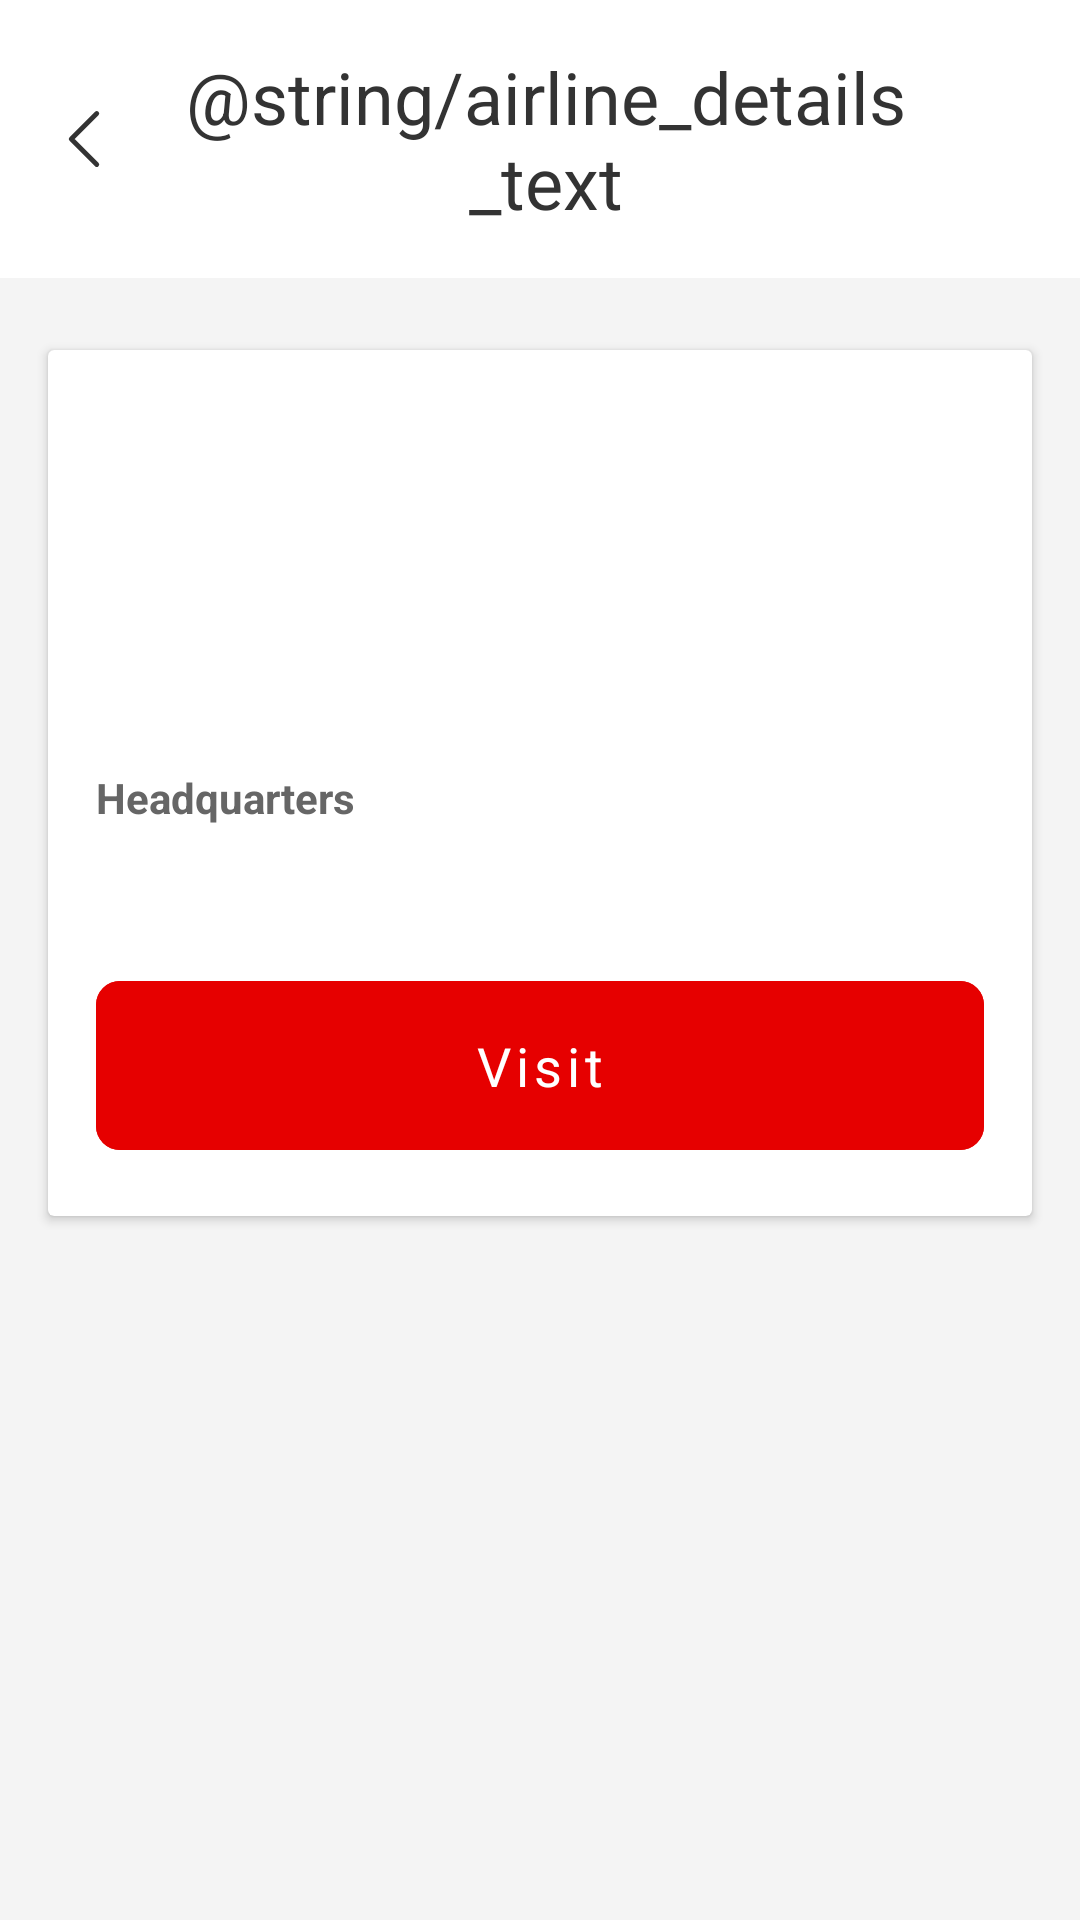

Screen size 1080×1920. Icon name, then its center in pixels as (x,y):
Back button from Airline details: (84,139)
